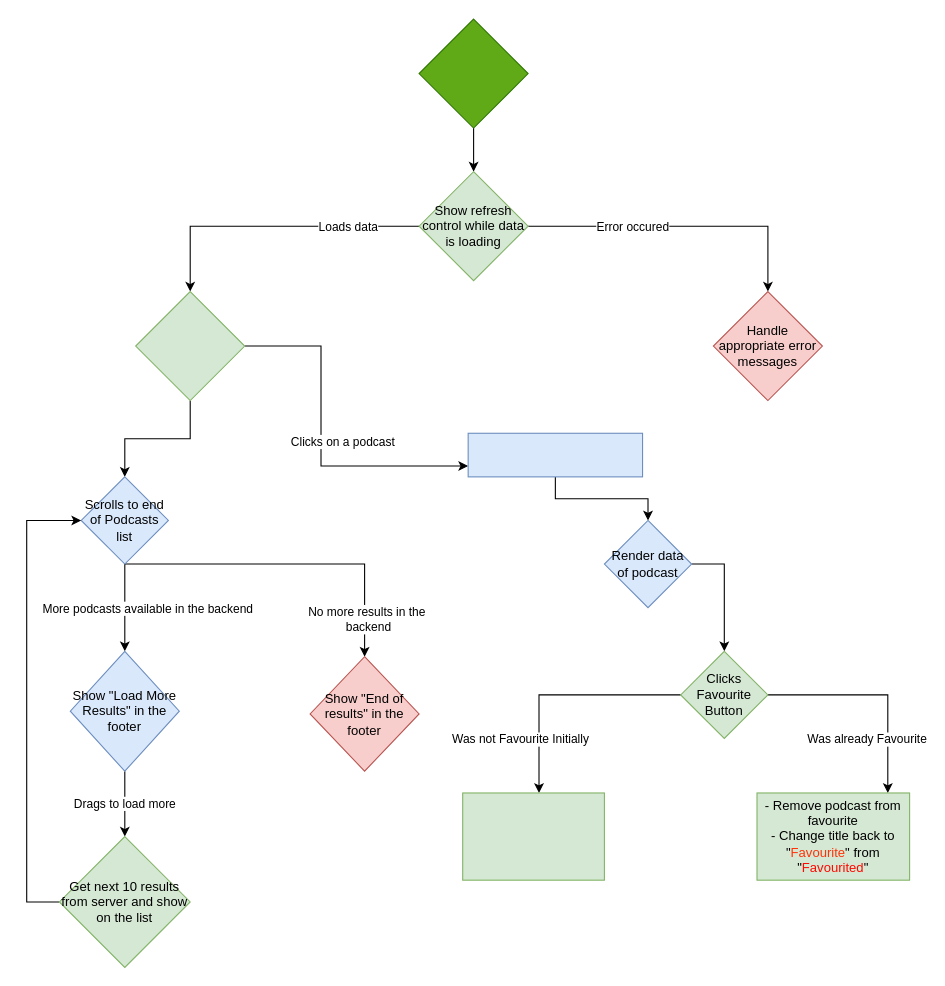
This 945x986 diagram has some shape labels left out. The shapes that lost their labels are listed below. From the top down, each one's centre as x and y in pixels, then its label:
point 473,73: User launches app
point 190,345: Show loaded data on UITableView
point 555,454: PodcastDetailViewController
point 533,836: - Podcast added to favourite - Favourite button title set to " Favourited "
